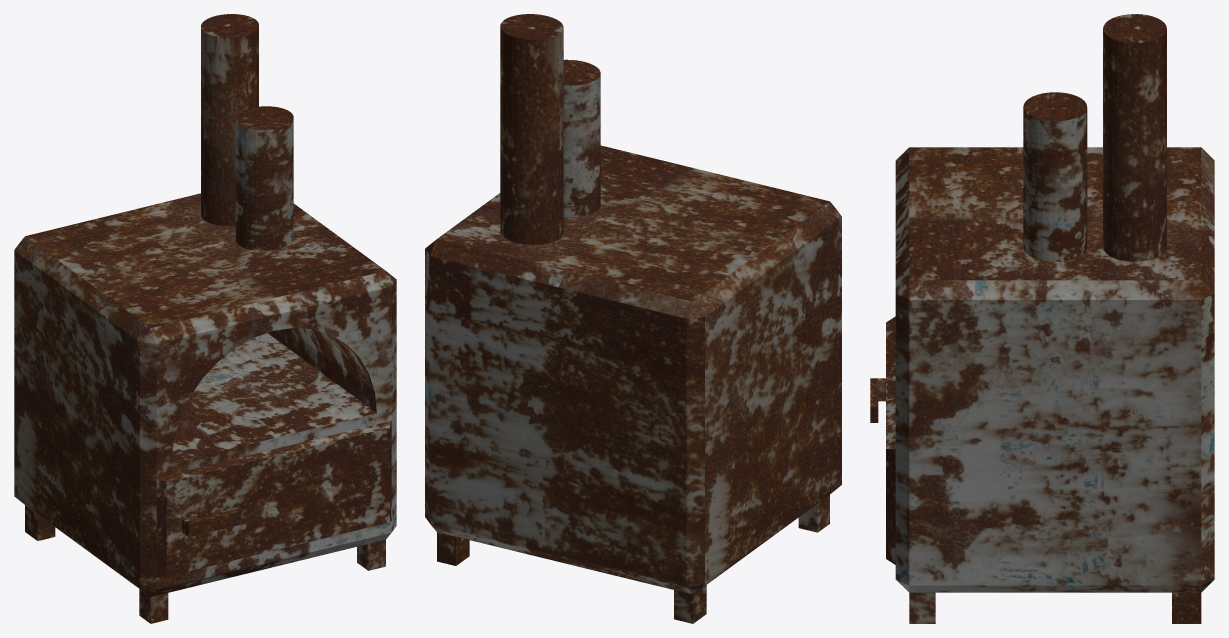
Rendered from furnace.fbx.
3 renders of one model, left to right at view 1: azimuth 30°, elevation 25°; view 2: azimuth 150°, elevation 25°; view 3: azimuth 270°, elevation 25°, orthographic. The views are drawn at different scales.
Parts seen in each view (by area): view 1: furnace; view 2: furnace; view 3: furnace.
Part boxes in pixels (x1,y1,x2,y2): furnace: [14, 14, 396, 623]; furnace: [425, 14, 841, 623]; furnace: [870, 14, 1214, 623].
Bounding box in the file's own units: 100 × 180 × 100.
